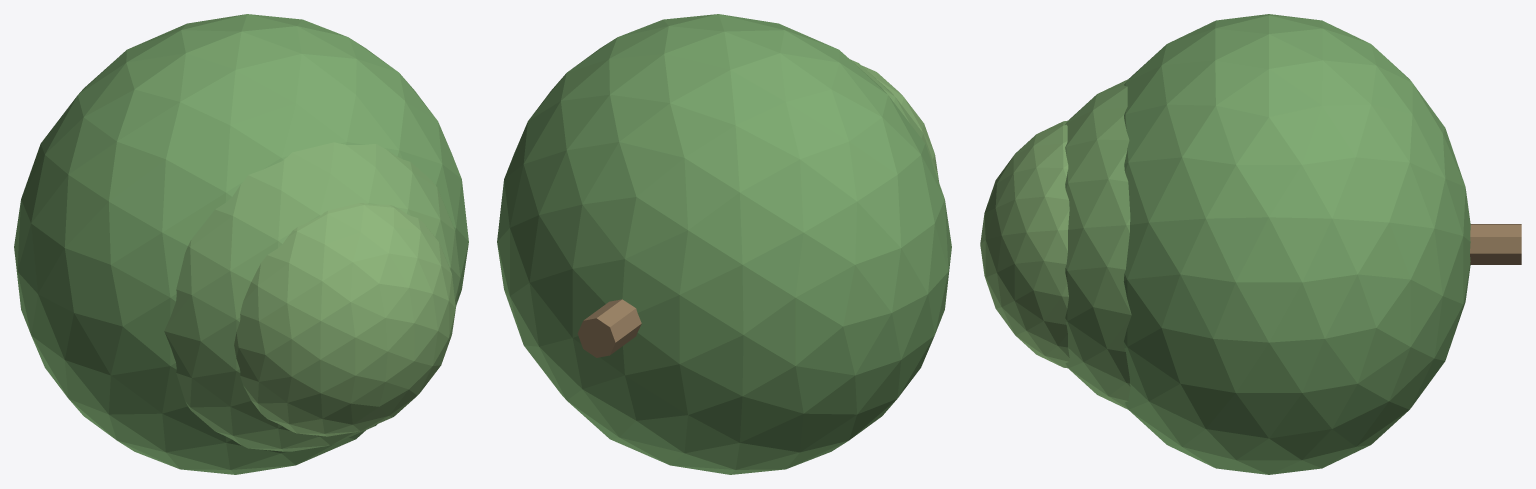
File: curated_round_deciduous.glb
The picture shows the model from 3 angles, left to right: view 1: azimuth 30°, elevation 25°; view 2: azimuth 150°, elevation 25°; view 3: azimuth 270°, elevation 25°; orthographic projection.
Visible parts, largest first — view 1: geometry_0; view 2: geometry_0; view 3: geometry_0.
Part boxes in pixels (x1,y1,x2,y2): geometry_0: [14, 14, 468, 474]; geometry_0: [497, 14, 951, 474]; geometry_0: [980, 14, 1521, 474].
Bounding box in the file's own units: 6 × 6 × 7.
